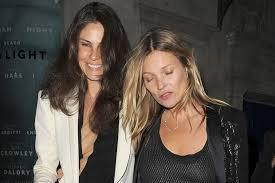Drunk: (143, 57, 190, 108), (79, 24, 108, 79)
